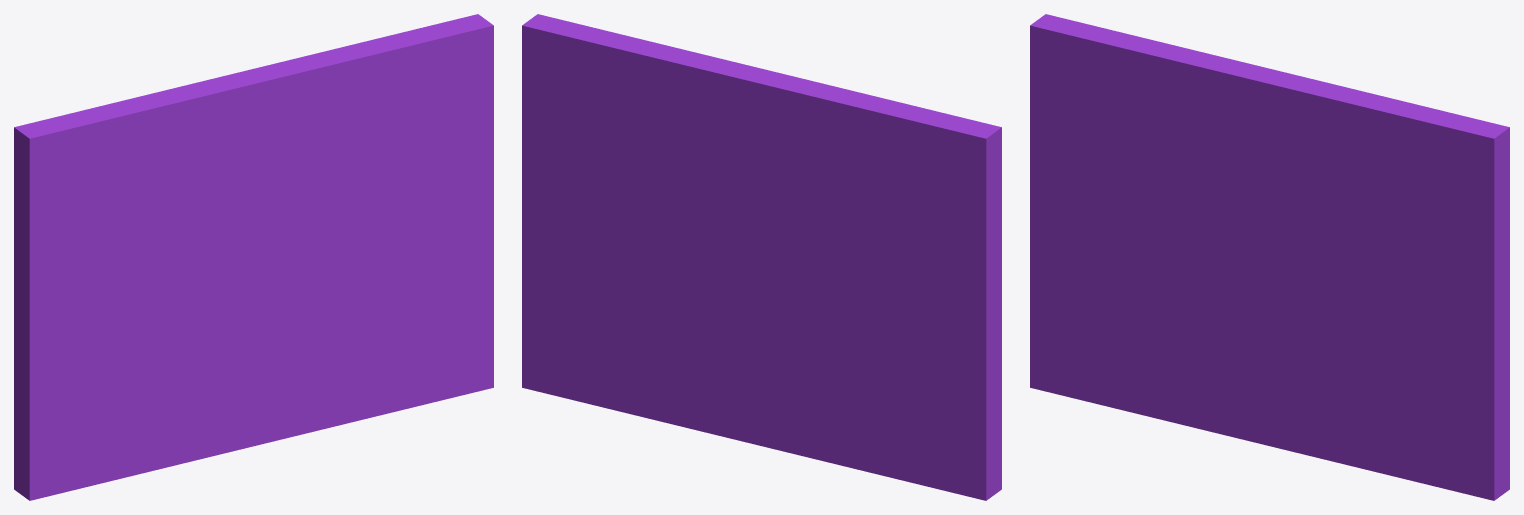
The model's file is Barrier_25_chunks.fbx.
3 views of the same model, side by side, from view 1: azimuth 30°, elevation 25°; view 2: azimuth 150°, elevation 25°; view 3: azimuth 330°, elevation 25° (orthographic).
Visible parts, largest first — view 1: Barrier_25_0, Barrier_25_1, Barrier_25_3, Barrier_25_2, Barrier_25_5, Barrier_25_6; view 2: Barrier_25_1, Barrier_25_2, Barrier_25_0, Barrier_25_5, Barrier_25_3, Barrier_25_4, Barrier_25_6; view 3: Barrier_25_1, Barrier_25_0, Barrier_25_3, Barrier_25_5, Barrier_25_2, Barrier_25_6.
Boxes of the visible parts, x1,y1,x2,y2 form: Barrier_25_0: [14, 71, 274, 346]; Barrier_25_1: [242, 14, 493, 301]; Barrier_25_3: [86, 303, 325, 486]; Barrier_25_2: [14, 276, 214, 500]; Barrier_25_5: [321, 278, 493, 425]; Barrier_25_6: [217, 258, 373, 337]; Barrier_25_1: [522, 14, 762, 315]; Barrier_25_2: [743, 235, 1001, 500]; Barrier_25_0: [756, 67, 1001, 334]; Barrier_25_5: [522, 293, 673, 414]; Barrier_25_3: [720, 326, 887, 476]; Barrier_25_4: [634, 333, 747, 442]; Barrier_25_6: [639, 272, 780, 346]; Barrier_25_1: [1271, 69, 1509, 417]; Barrier_25_0: [1030, 14, 1275, 281]; Barrier_25_3: [1086, 281, 1325, 457]; Barrier_25_5: [1321, 333, 1509, 500]; Barrier_25_2: [1030, 234, 1214, 401]; Barrier_25_6: [1217, 262, 1373, 365].
Bounding box in the file's own units: 381 × 284 × 22.39.
